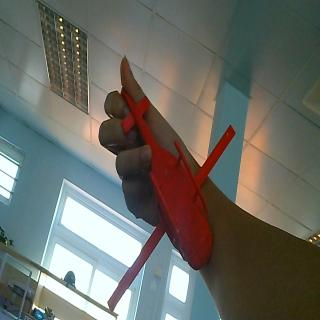Helicopter: (109, 86, 238, 317)
